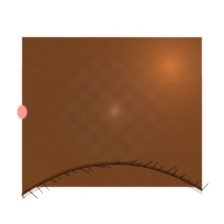pinguecula_lesion: (161, 89, 194, 115)
